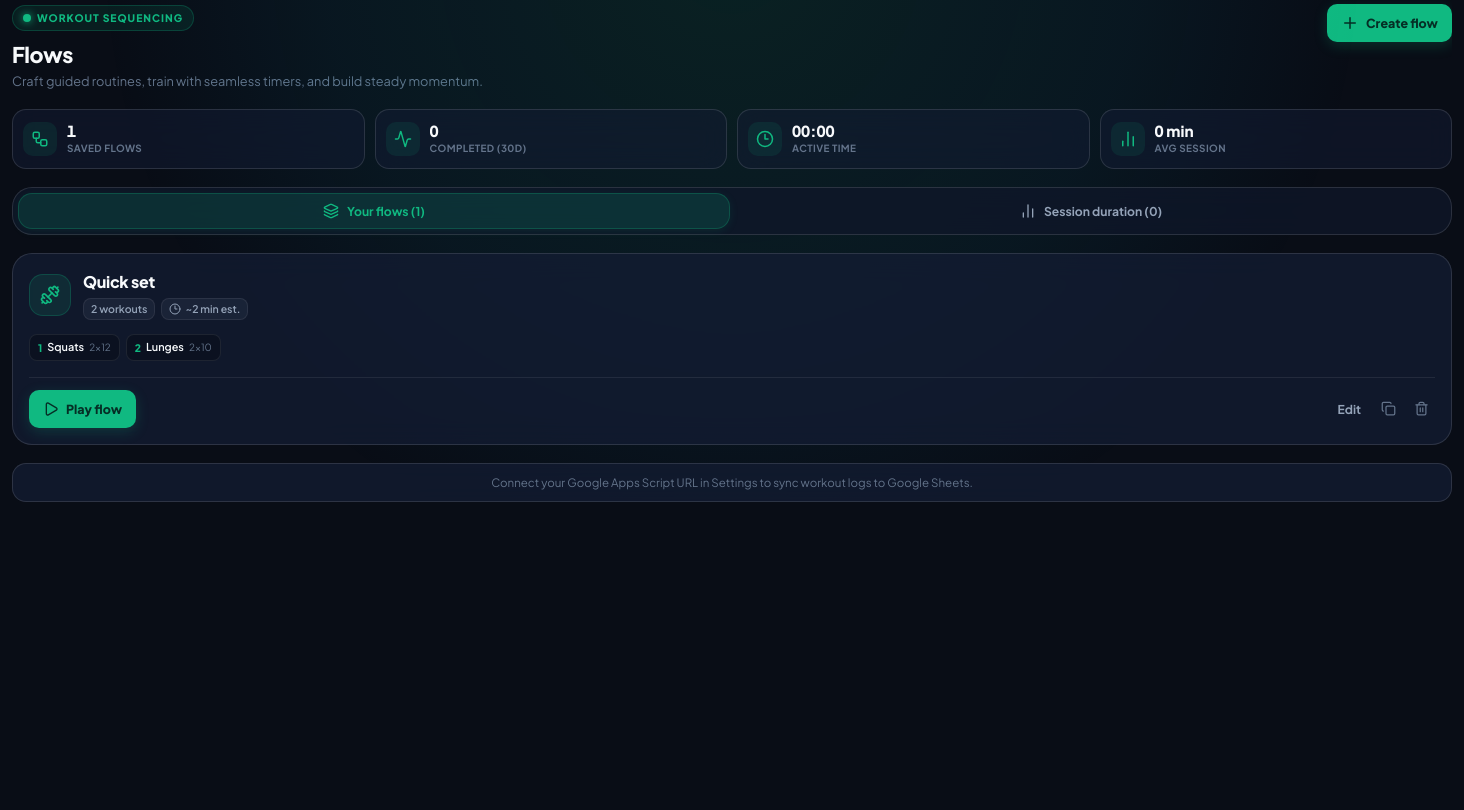
Test case: plays a flow, advances workouts, and records one completed session
Click the button "Play flow" at (83, 408), box 29,390 -> 136,428
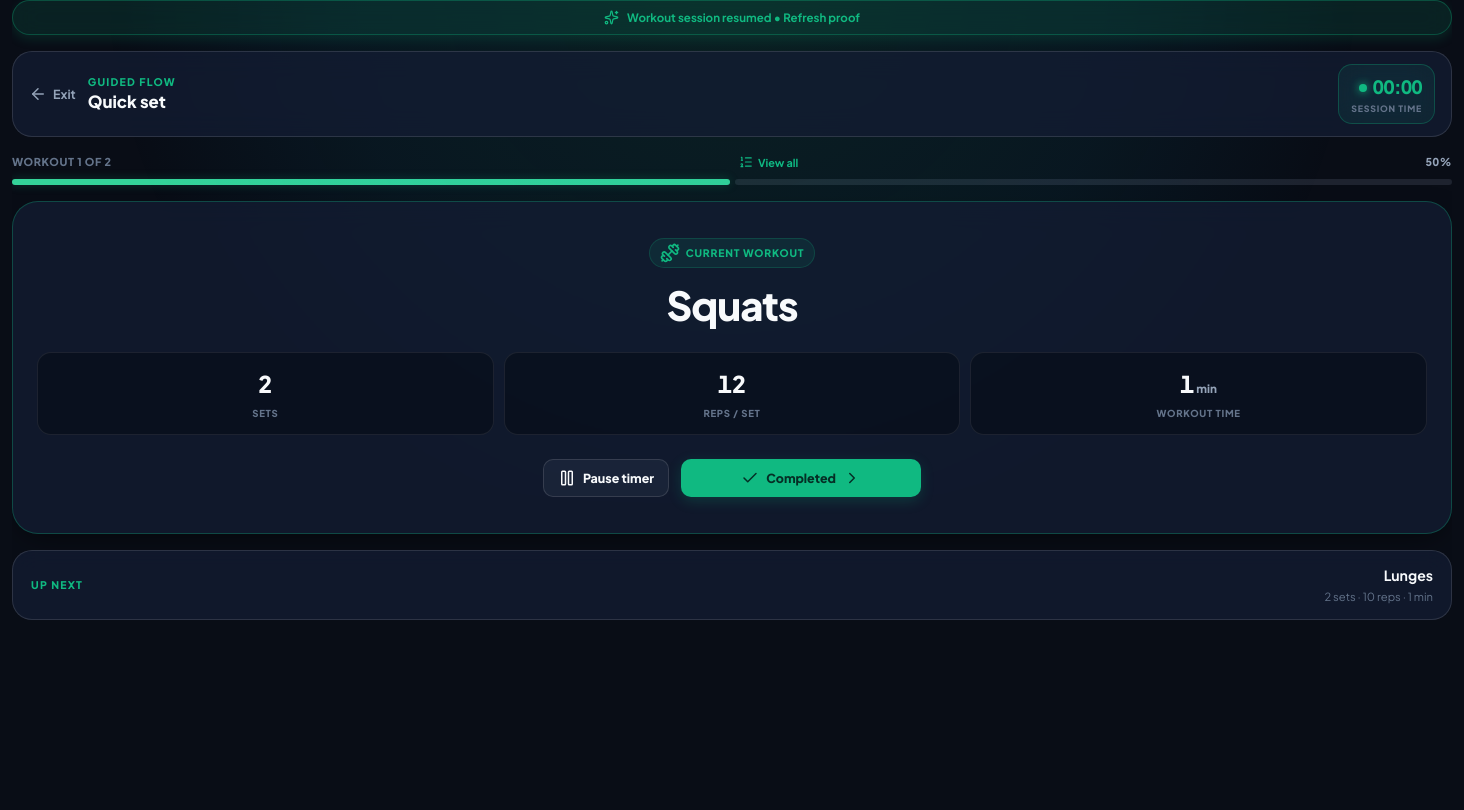
Expected: the heading "Squats" is shown, 666,282 -> 798,328
Expected: the text "Lunges" is shown, 1384,566 -> 1433,584
Click the button "Completed" at (801, 478), box 681,459 -> 921,497
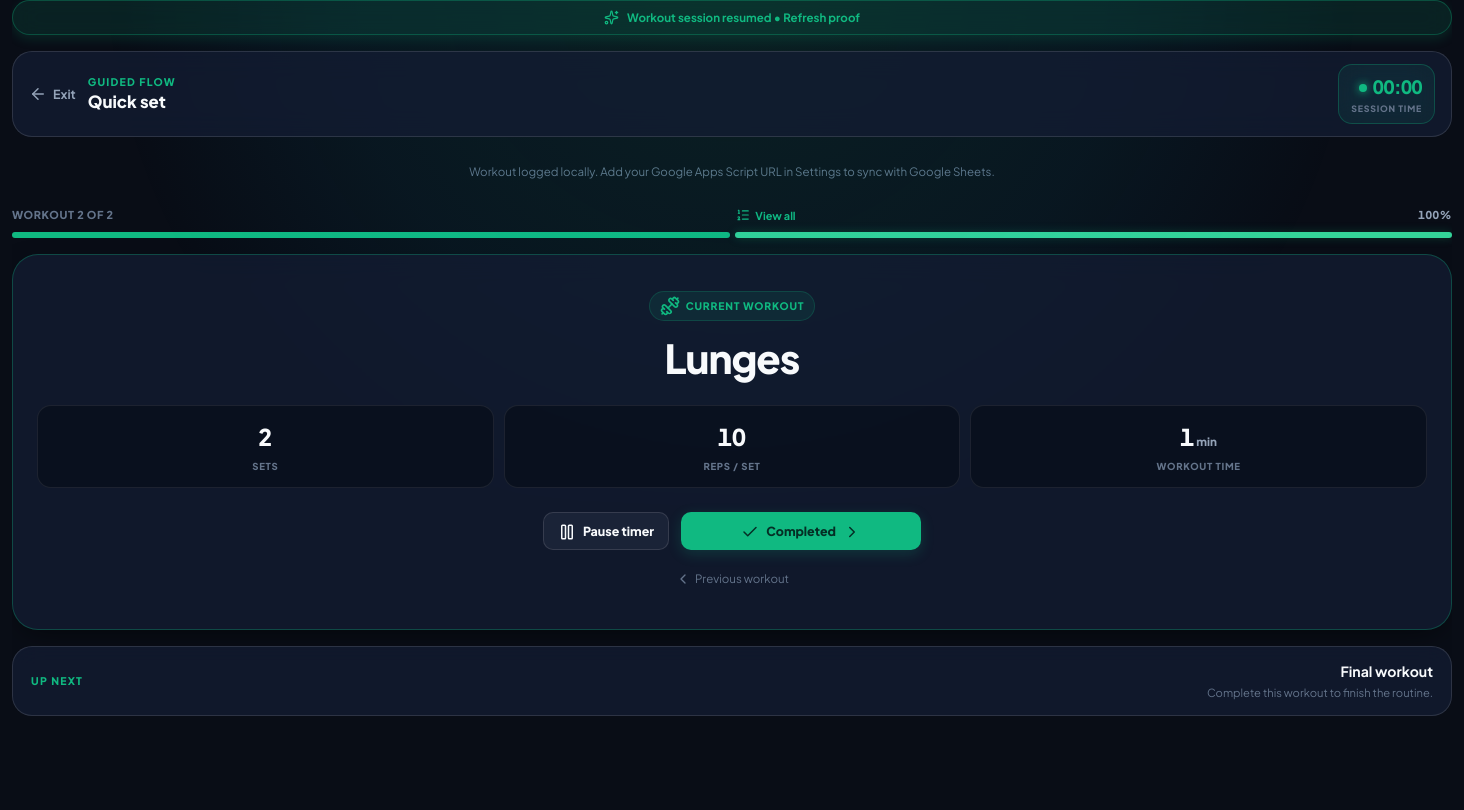
Expected: the heading "Lunges" is shown, 665,335 -> 799,381
Click the button "Completed" at (801, 532), box 681,512 -> 921,550
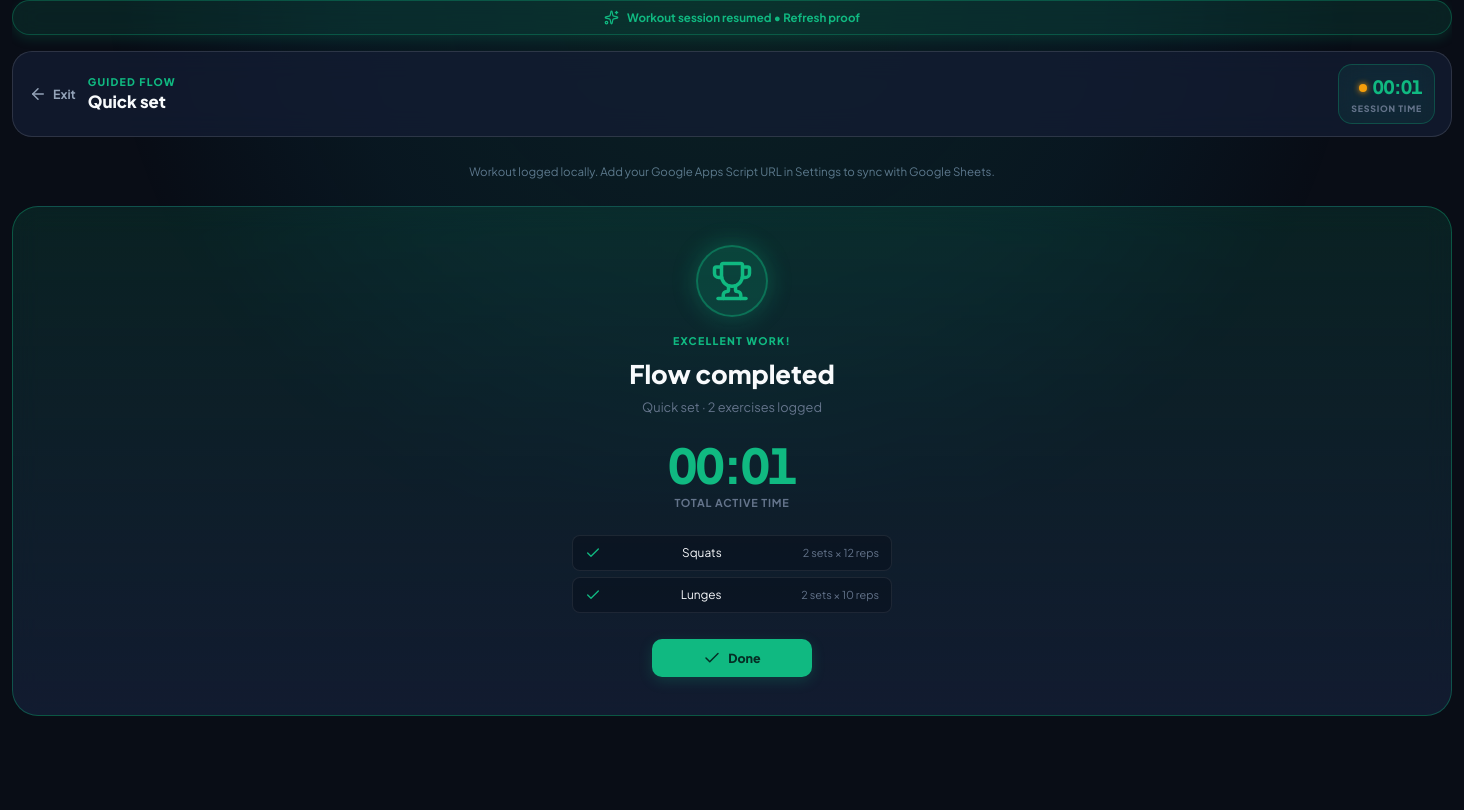
Expected: the heading "Flow completed" is shown, 629,355 -> 835,394
